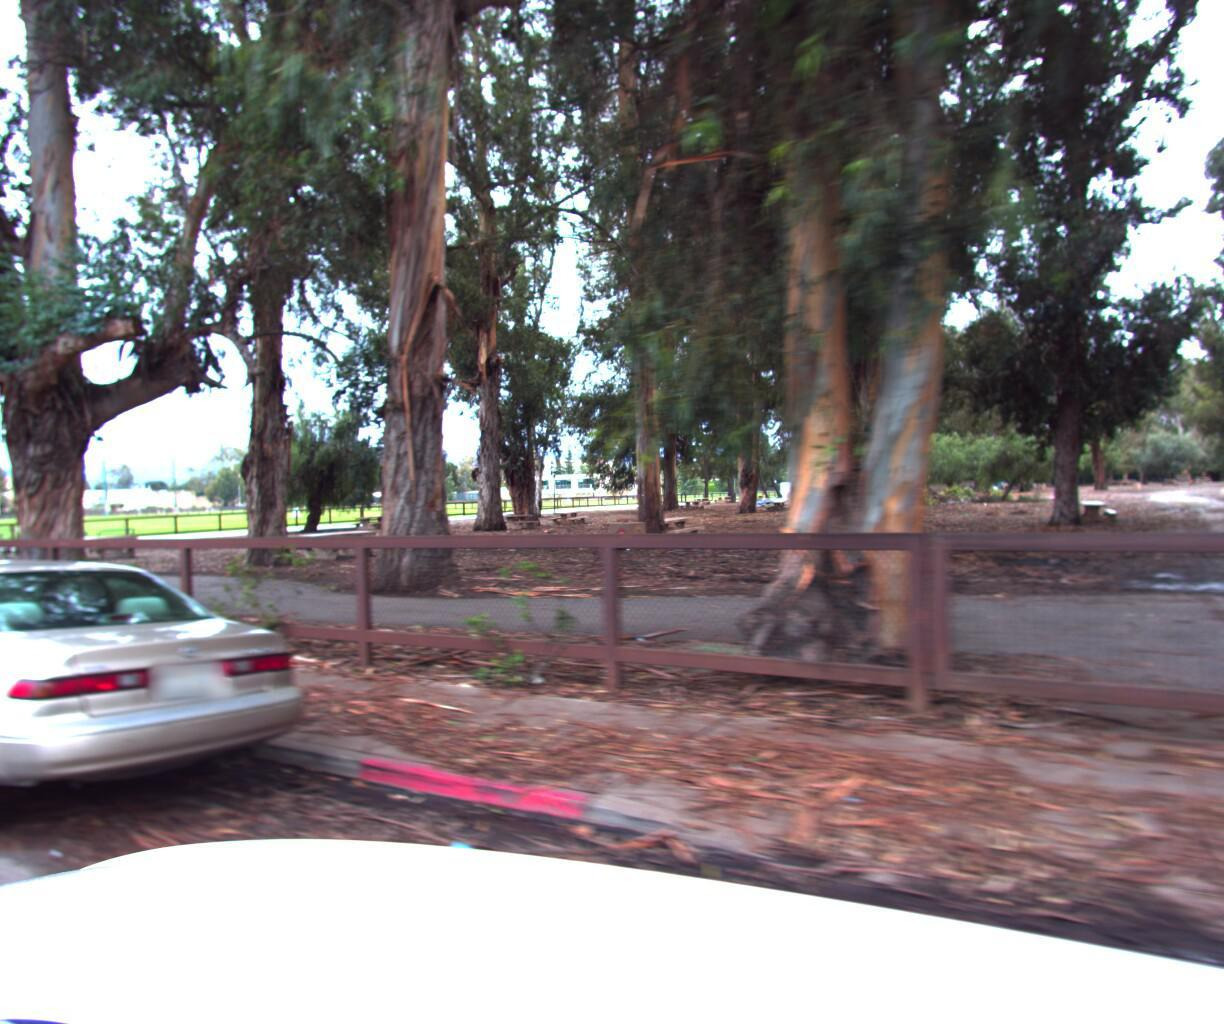bicycle: (0, 522, 54, 562)
car: (0, 531, 347, 915)
